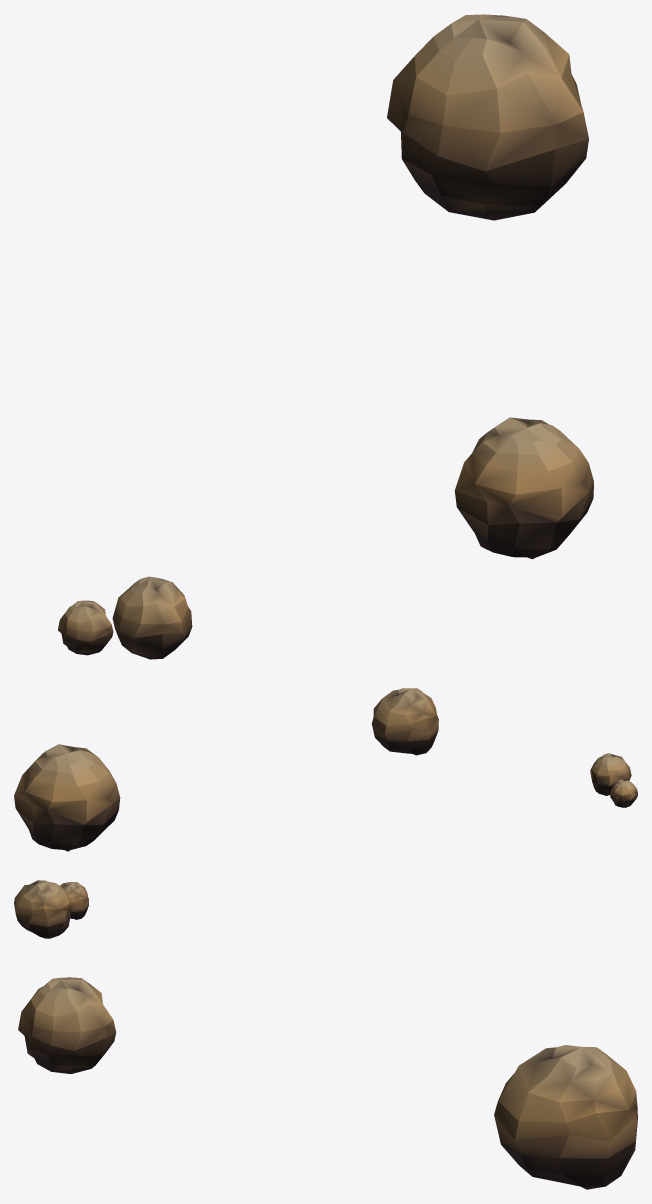
File: level1BouldersBrkn_grp.fbx
The picture shows the model from 3 angles, top to bottom: view 1: azimuth 30°, elevation 25°; view 2: azimuth 150°, elevation 25°; view 3: azimuth 270°, elevation 25°; orthographic projection. The views are drawn at different scales.
Visible parts, largest first — view 1: boulder_04 (×2), boulder_02, boulder_032, boulder_03, boulder_030, boulder_029, boulder_031, boulder_027, boulder_033, boulder_01; view 2: boulder_03 (×2), boulder_01, boulder_033, boulder_031, boulder_02, boulder_04, boulder_028, boulder_026; view 3: boulder_04, boulder_02, boulder_033, boulder_031, boulder_032, boulder_029, boulder_03, boulder_027, boulder_030, boulder_01.
Part boxes in pixels (x1=…): boulder_04 (×2): x1=77, y1=15, x2=588, y2=642; boulder_02: x1=403, y1=125, x2=588, y2=220; boulder_032: x1=474, y1=428, x2=589, y2=517; boulder_03: x1=387, y1=14, x2=502, y2=132; boulder_030: x1=475, y1=492, x2=593, y2=559; boulder_029: x1=122, y1=578, x2=192, y2=638; boulder_031: x1=454, y1=453, x2=593, y2=532; boulder_027: x1=112, y1=617, x2=191, y2=659; boulder_033: x1=472, y1=417, x2=578, y2=465; boulder_01: x1=387, y1=118, x2=448, y2=211; boulder_03 (×2): x1=25, y1=753, x2=636, y2=821; boulder_01: x1=28, y1=805, x2=118, y2=851; boulder_033: x1=372, y1=688, x2=431, y2=741; boulder_031: x1=372, y1=707, x2=438, y2=755; boulder_02: x1=14, y1=769, x2=120, y2=828; boulder_04: x1=28, y1=744, x2=115, y2=781; boulder_028: x1=591, y1=757, x2=627, y2=784; boulder_026: x1=592, y1=778, x2=616, y2=795; boulder_04: x1=494, y1=1045, x2=619, y2=1158; boulder_02: x1=494, y1=1090, x2=637, y2=1189; boulder_033: x1=53, y1=977, x2=115, y2=1050; boulder_031: x1=32, y1=1031, x2=115, y2=1073; boulder_032: x1=18, y1=977, x2=69, y2=1035; boulder_029: x1=14, y1=880, x2=57, y2=923; boulder_03: x1=581, y1=1046, x2=635, y2=1109; boulder_027: x1=15, y1=901, x2=69, y2=938; boulder_030: x1=19, y1=1030, x2=51, y2=1071; boulder_01: x1=604, y1=1108, x2=637, y2=1185.
Size of the model in its own units: 370 by 76.64 by 326.
